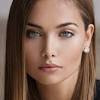face: (23, 20, 82, 76)
